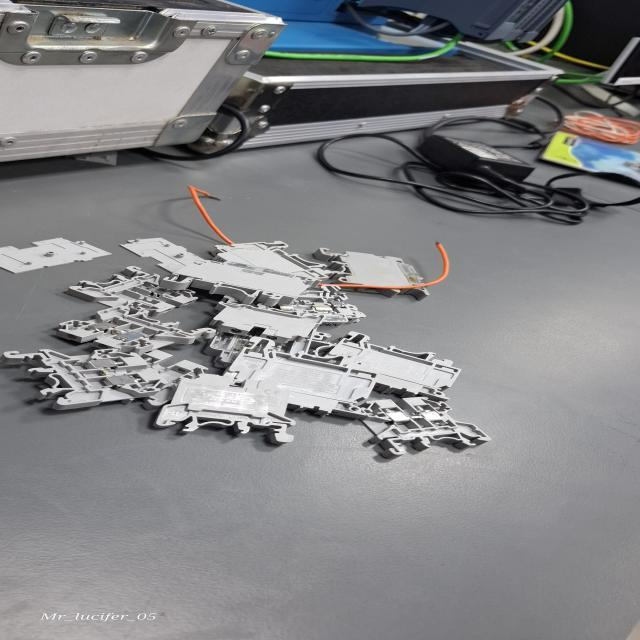Inverted: (146, 362, 315, 446), (210, 289, 332, 344)
Pass: (347, 392, 508, 465), (0, 346, 172, 412), (43, 298, 219, 352)
Reject: (53, 264, 204, 314)
